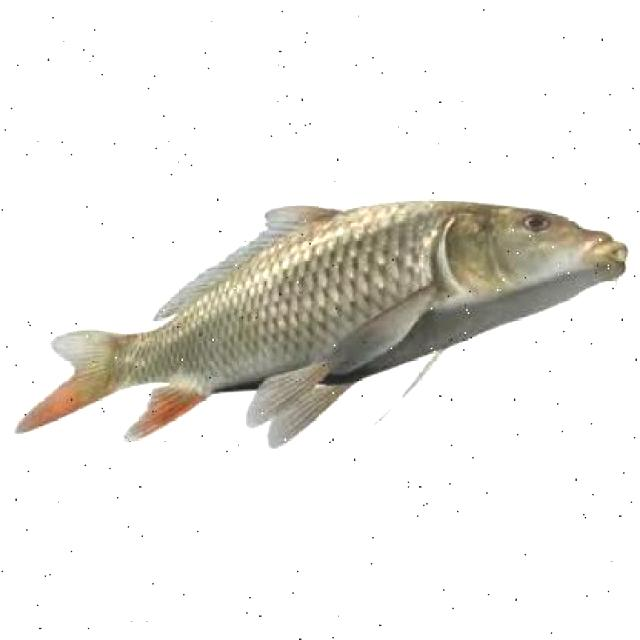ikan-mas: (15, 193, 628, 441)
